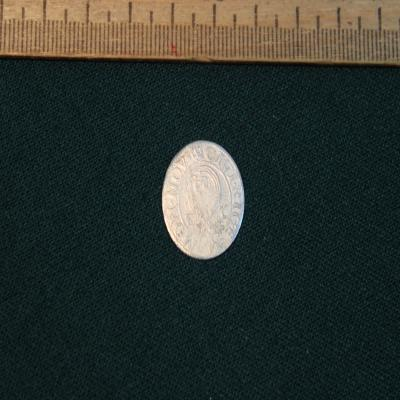numismatics: (162, 141, 245, 259)
